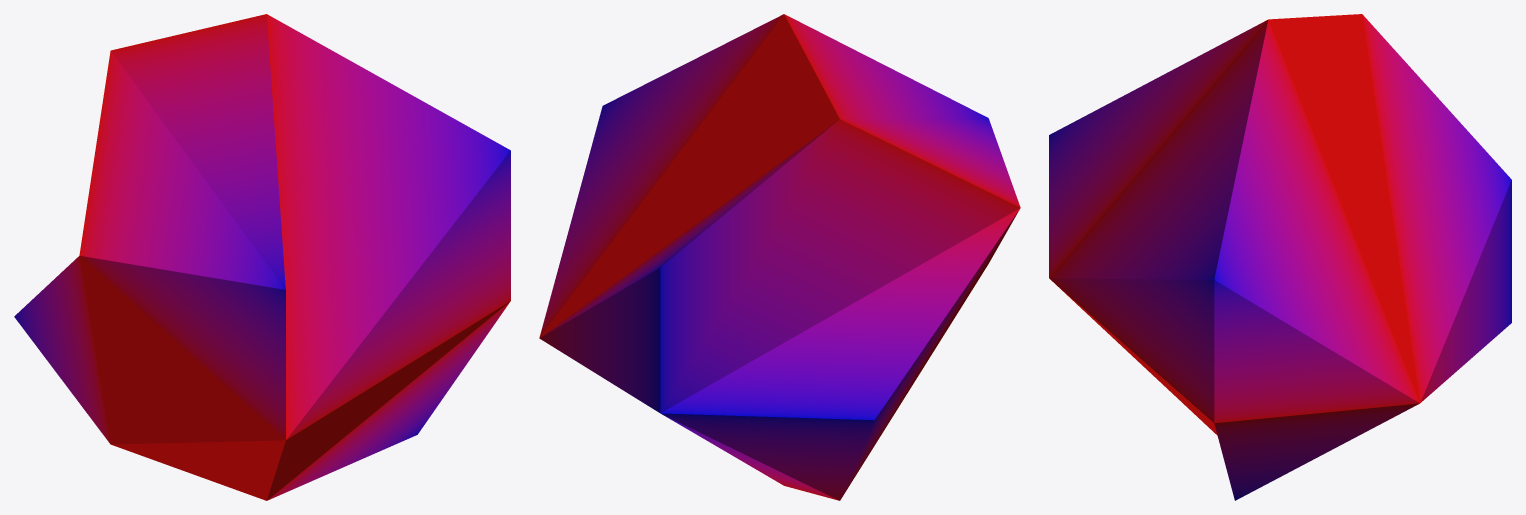
Rendered from after_decimating_conquest_4_6.obj.
The picture shows the model from 3 angles, left to right: view 1: azimuth 30°, elevation 25°; view 2: azimuth 150°, elevation 25°; view 3: azimuth 270°, elevation 25°; orthographic projection. The views are drawn at different scales.
Bounding box in the file's own units: 1.85 × 2 × 1.81.
